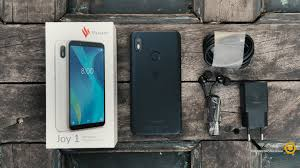vsmart: (126, 25, 185, 142)
